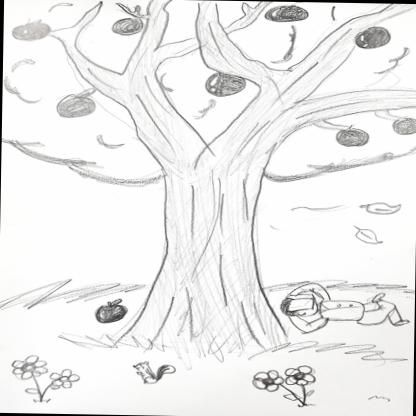apple: (196, 67, 247, 99), (52, 89, 103, 118), (336, 120, 374, 153), (9, 16, 53, 43), (356, 25, 393, 53), (109, 12, 146, 37), (268, 3, 308, 26), (392, 115, 416, 132)
branch_sharp: (28, 0, 416, 142)
crown_cloud: (2, 0, 416, 190)
root_none: (54, 277, 328, 369)
trunk_bark: (143, 185, 278, 276)
